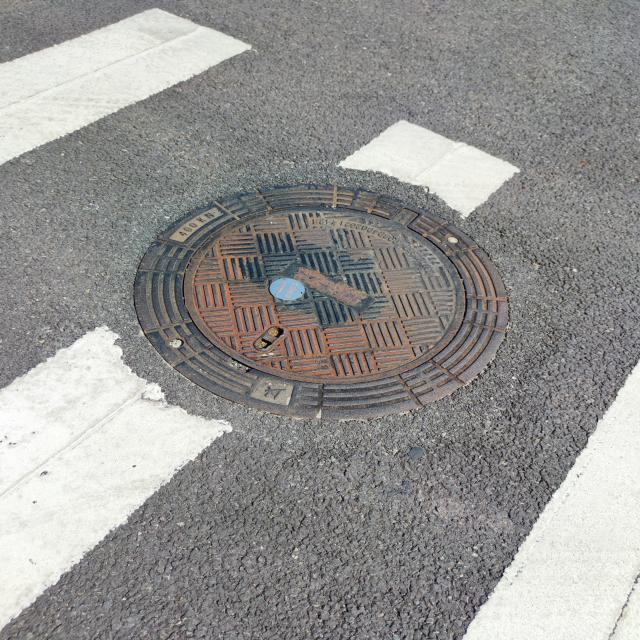Good: (126, 180, 521, 422)
